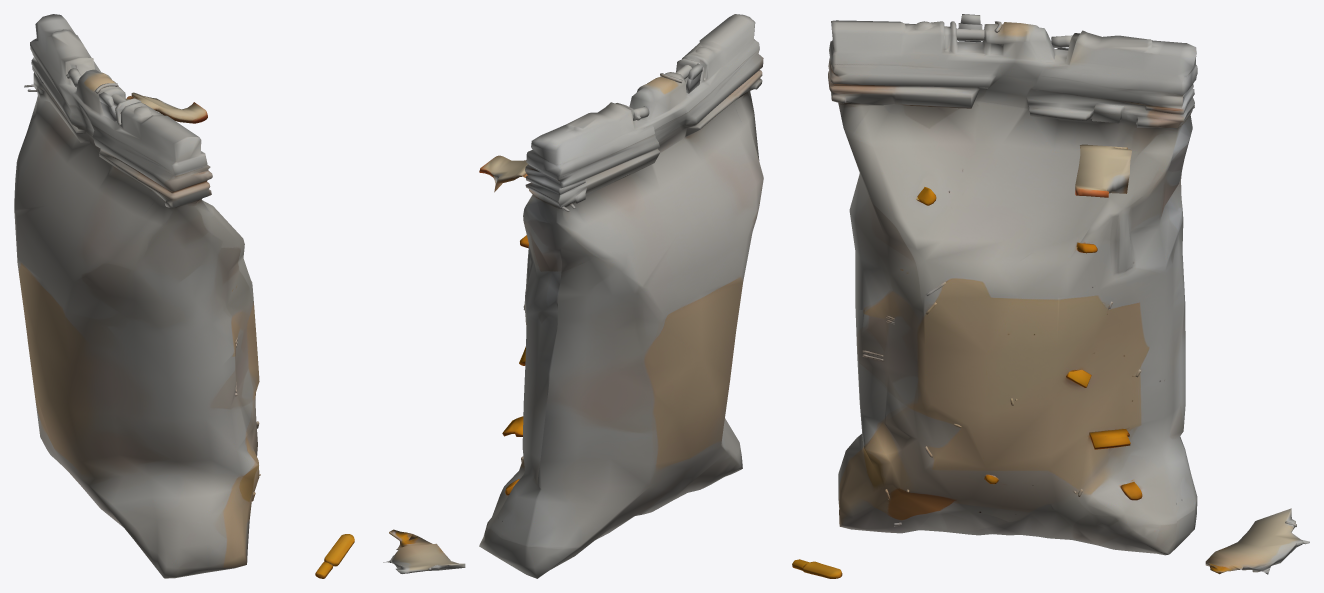
Rendered from ration-rot.glb.
The picture shows the model from 3 angles, left to right: view 1: azimuth 30°, elevation 25°; view 2: azimuth 150°, elevation 25°; view 3: azimuth 270°, elevation 25°; orthographic projection. The views are drawn at different scales.
Parts seen in each view (by area): view 1: tripo_node_bccbbb5e-fea5-4ee1-ac60-8941fcac2dd9; view 2: tripo_node_bccbbb5e-fea5-4ee1-ac60-8941fcac2dd9; view 3: tripo_node_bccbbb5e-fea5-4ee1-ac60-8941fcac2dd9.
Part boxes in pixels (x1,y1,x2,y2): tripo_node_bccbbb5e-fea5-4ee1-ac60-8941fcac2dd9: (14, 14, 354, 578); tripo_node_bccbbb5e-fea5-4ee1-ac60-8941fcac2dd9: (383, 14, 763, 578); tripo_node_bccbbb5e-fea5-4ee1-ac60-8941fcac2dd9: (792, 14, 1309, 578).
Size of the model in its own units: 0.5435 by 0.9995 by 0.9692.
Materials: 1 (1 with a texture image).
